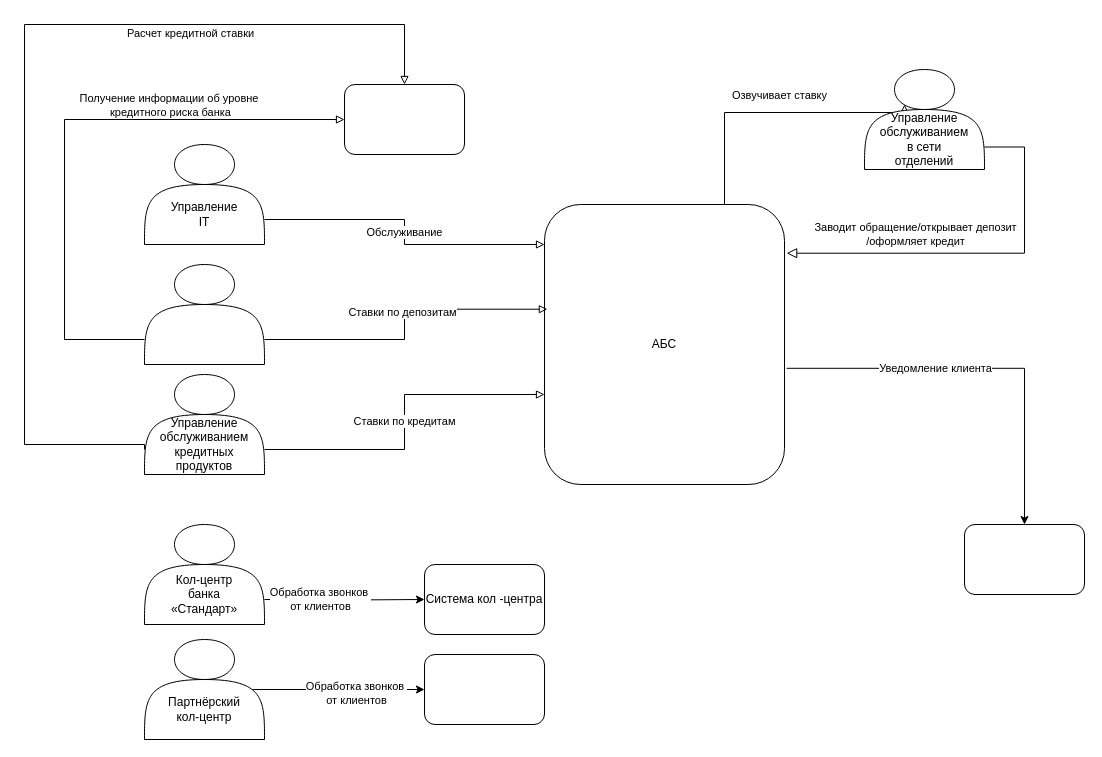
The diagram is 1102 pixels wide and 757 high, and some of its shapes have lost their labels. Each missing label, with the box of its shape:
Excel: (344, 84, 464, 154)
Система партнерского кол-центра: (424, 654, 544, 724)
СМС-шлюз: (964, 524, 1084, 594)
Управление обслуживанием депозитных продуктов: (144, 264, 264, 364)
